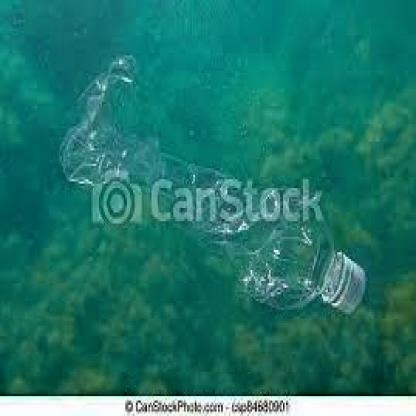pbottle: (58, 49, 372, 328)
